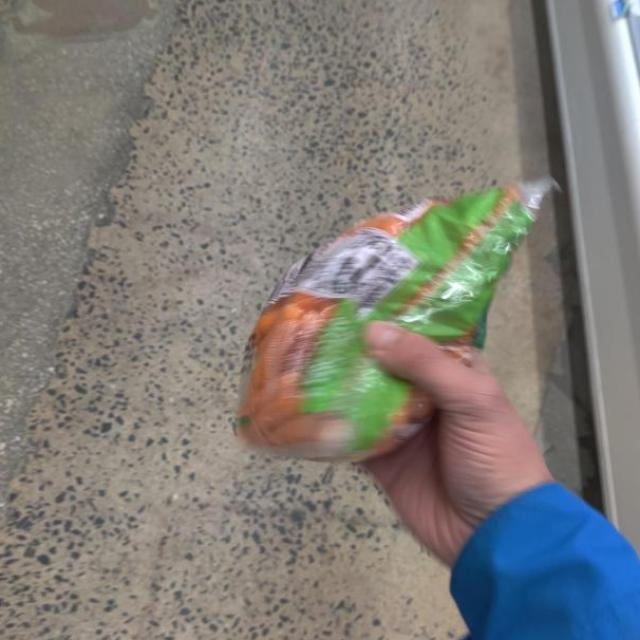Carrots: (211, 145, 562, 505)
